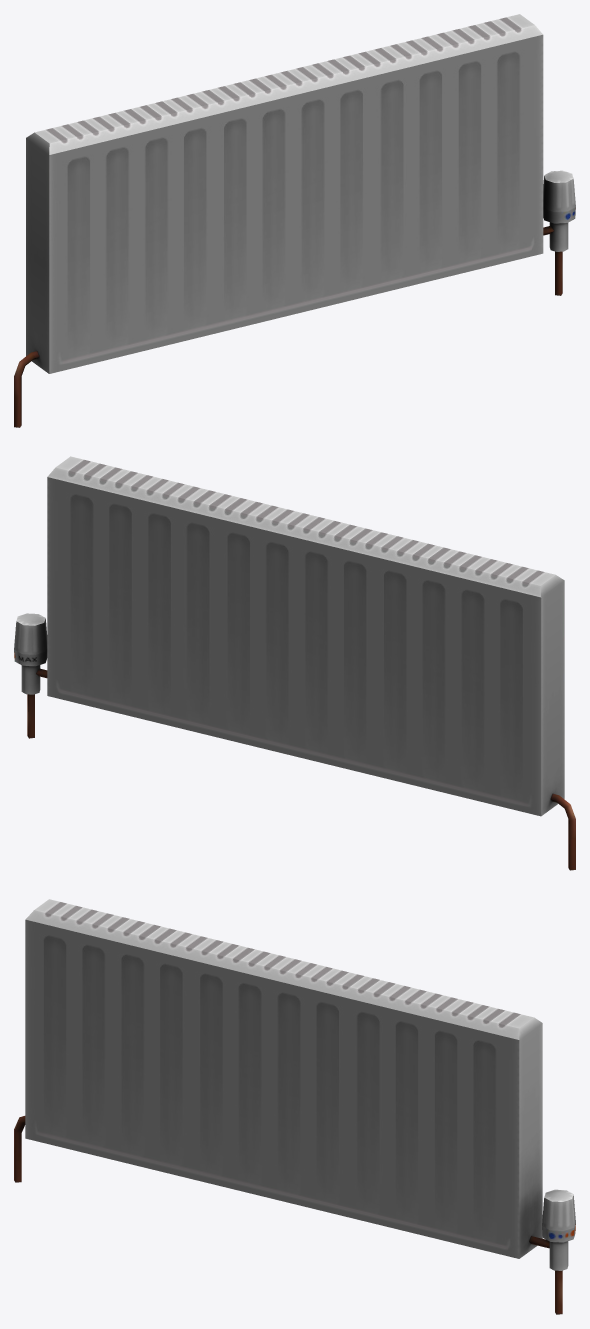
Rendered from Radiator.fbx.
The picture shows the model from 3 angles, top to bottom: view 1: azimuth 30°, elevation 25°; view 2: azimuth 150°, elevation 25°; view 3: azimuth 330°, elevation 25°; orthographic projection.
Visible parts, largest first — view 1: Radiator; view 2: Radiator; view 3: Radiator.
Boxes of the visible parts, left/top/right/bottom form: Radiator: left=14, top=14, right=575, bottom=427; Radiator: left=14, top=456, right=575, bottom=870; Radiator: left=14, top=899, right=575, bottom=1314.
Bounding box in the file's own units: 150 × 10.87 × 72.5.
